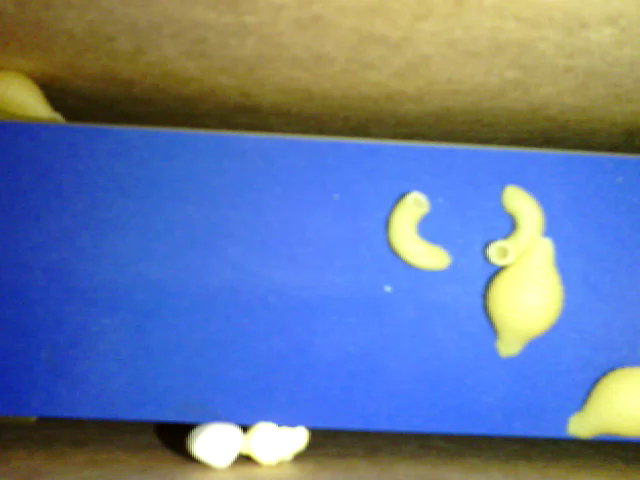elbow: (387, 190, 455, 277), (485, 184, 547, 268)
shell: (473, 237, 567, 365), (565, 365, 638, 440), (1, 67, 71, 127)
